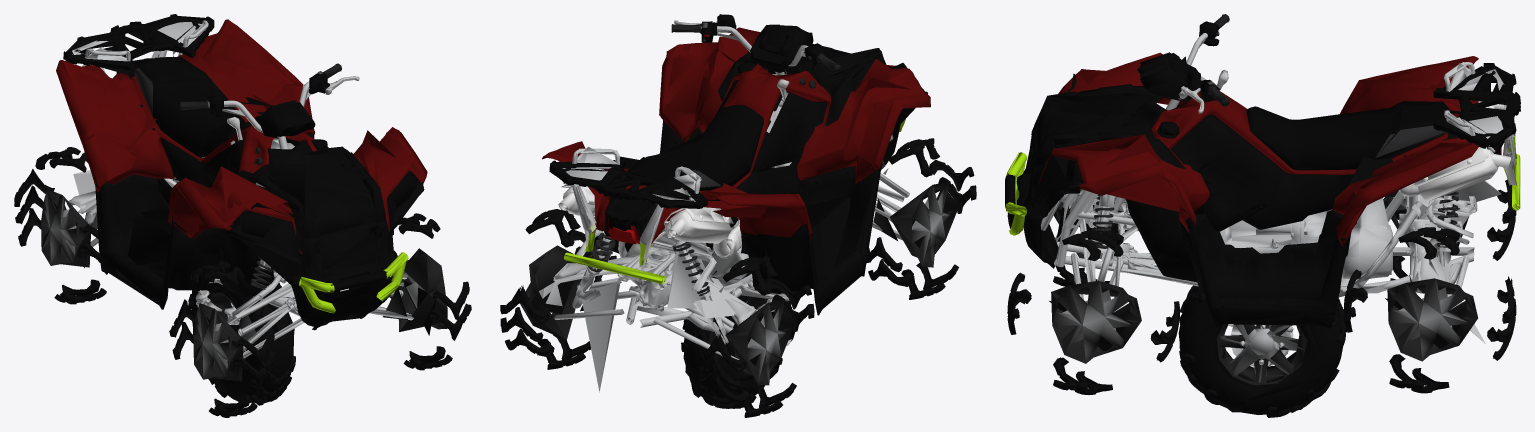
The model's file is atv1.glb.
The picture shows the model from 3 angles, left to right: view 1: azimuth 30°, elevation 25°; view 2: azimuth 150°, elevation 25°; view 3: azimuth 270°, elevation 25°; orthographic projection. The views are drawn at different scales.
Visible parts, largest first — view 1: body0, body2, body1, wheel0, wheel1; view 2: body0, body2, body1, wheel0, wheel1; view 3: body0, body2, body1, wheel0, wheel1.
Boxes of the visible parts, bbox=[...] form: body0: bbox=[14, 14, 471, 417]; body2: bbox=[23, 21, 447, 381]; body1: bbox=[18, 16, 470, 416]; wheel0: bbox=[188, 259, 295, 405]; wheel1: bbox=[191, 285, 294, 404]; body0: bbox=[500, 14, 976, 417]; body2: bbox=[520, 26, 958, 392]; body1: bbox=[500, 14, 971, 413]; wheel0: bbox=[681, 272, 794, 408]; wheel1: bbox=[682, 277, 793, 408]; body0: bbox=[1005, 14, 1520, 394]; body2: bbox=[1015, 39, 1519, 363]; body1: bbox=[1006, 14, 1519, 394]; wheel0: bbox=[1178, 285, 1346, 417]; wheel1: bbox=[1179, 287, 1345, 416].
Bounding box in the file's own units: 1.21 × 1.63 × 2.1.
